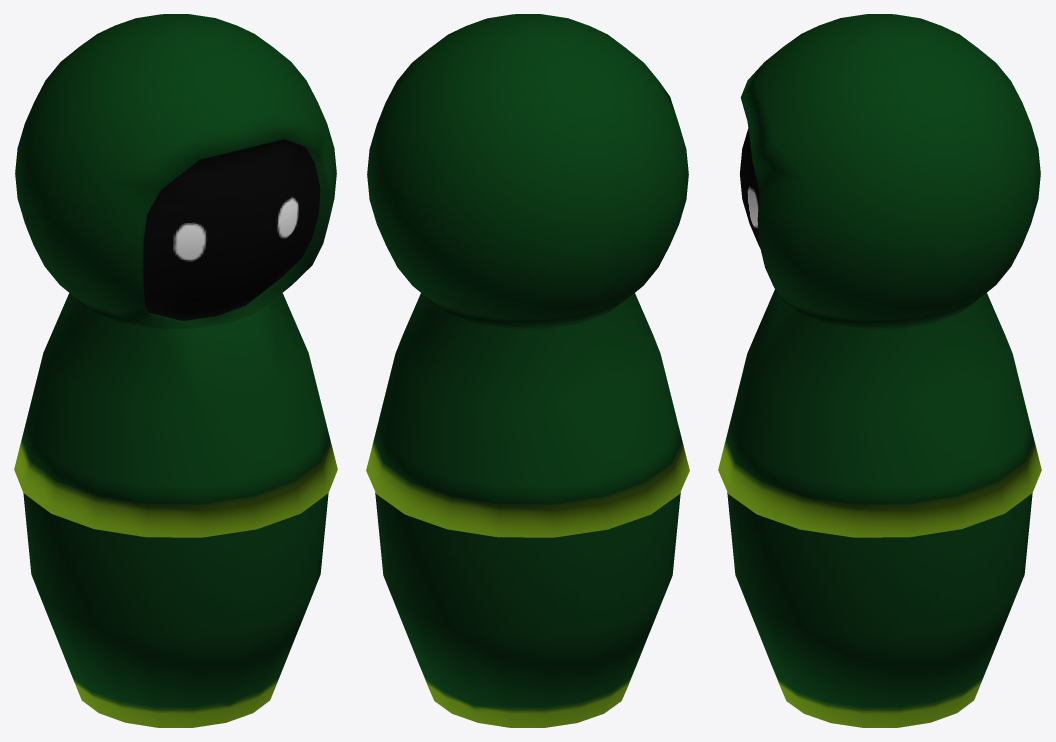
The model's file is Enemy.fbx.
The picture shows the model from 3 angles, left to right: view 1: azimuth 30°, elevation 25°; view 2: azimuth 150°, elevation 25°; view 3: azimuth 270°, elevation 25°; orthographic projection.
Parts seen in each view (by area): view 1: pSphere6; view 2: pSphere6; view 3: pSphere6.
Part boxes in pixels (left/top/right/bottom): pSphere6: left=14, top=14, right=337, bottom=727; pSphere6: left=366, top=14, right=689, bottom=727; pSphere6: left=718, top=14, right=1041, bottom=727.
Bounding box in the file's own units: 5.96 × 13.54 × 6.04.
Materials: 1 (1 with a texture image).
